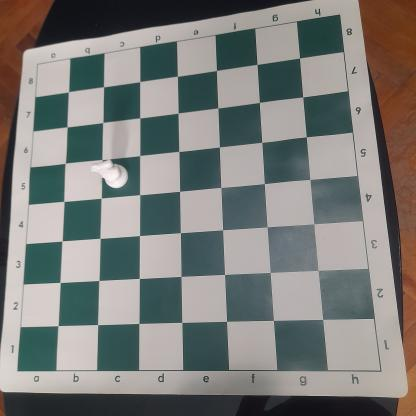white-knight: (90, 159, 130, 190)
